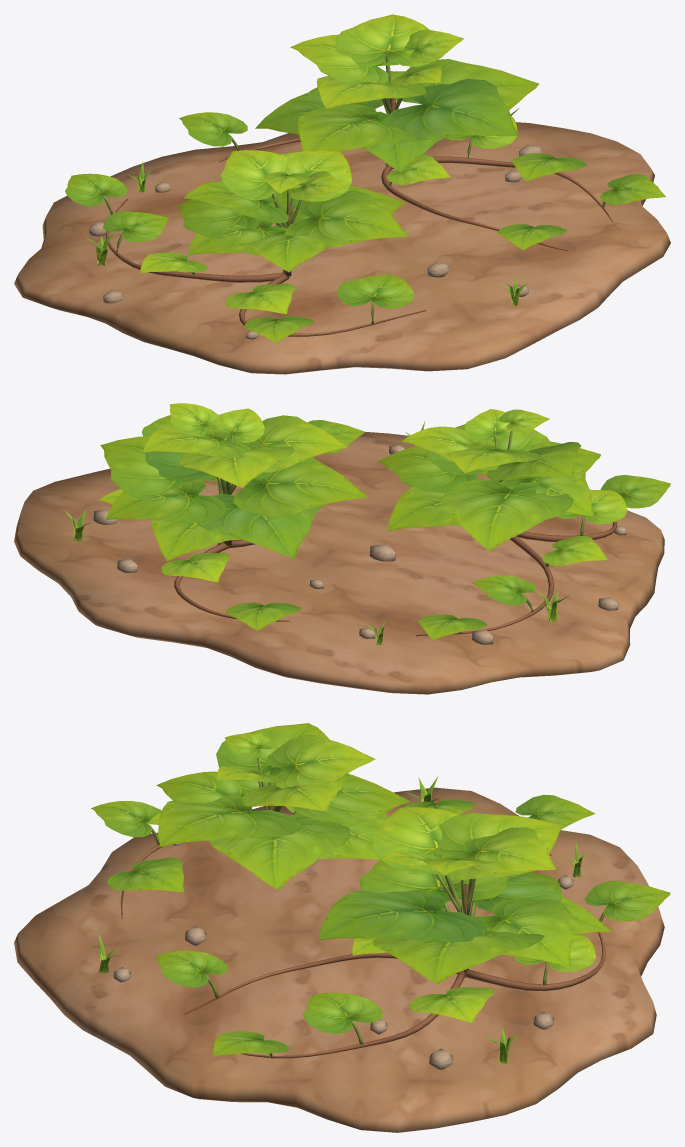
Rendered from wild_sweet_potato.glb.
3 views of the same model, one above another, from view 1: azimuth 30°, elevation 25°; view 2: azimuth 150°, elevation 25°; view 3: azimuth 270°, elevation 25° (orthographic). The views are drawn at different scales.
Visible parts, largest first — view 1: soil, foliage, stems, stone; view 2: soil, foliage, stems, stone; view 3: soil, foliage, stems, stone.
Boxes of the visible parts, <box> form: soil: <box>14,122,670,374</box>; foliage: <box>65,14,665,343</box>; stems: <box>100,48,618,336</box>; stone: <box>89,144,542,339</box>; soil: <box>14,432,664,694</box>; foliage: <box>64,403,670,645</box>; stems: <box>174,425,623,636</box>; stone: <box>93,444,626,644</box>; soil: <box>14,787,664,1132</box>; foliage: <box>86,723,670,1063</box>; stems: <box>120,756,611,1058</box>; stone: <box>113,842,573,1069</box>.
Bounding box in the file's own units: 2.18 × 0.532 × 1.79.
4 materials, 4 textured.
